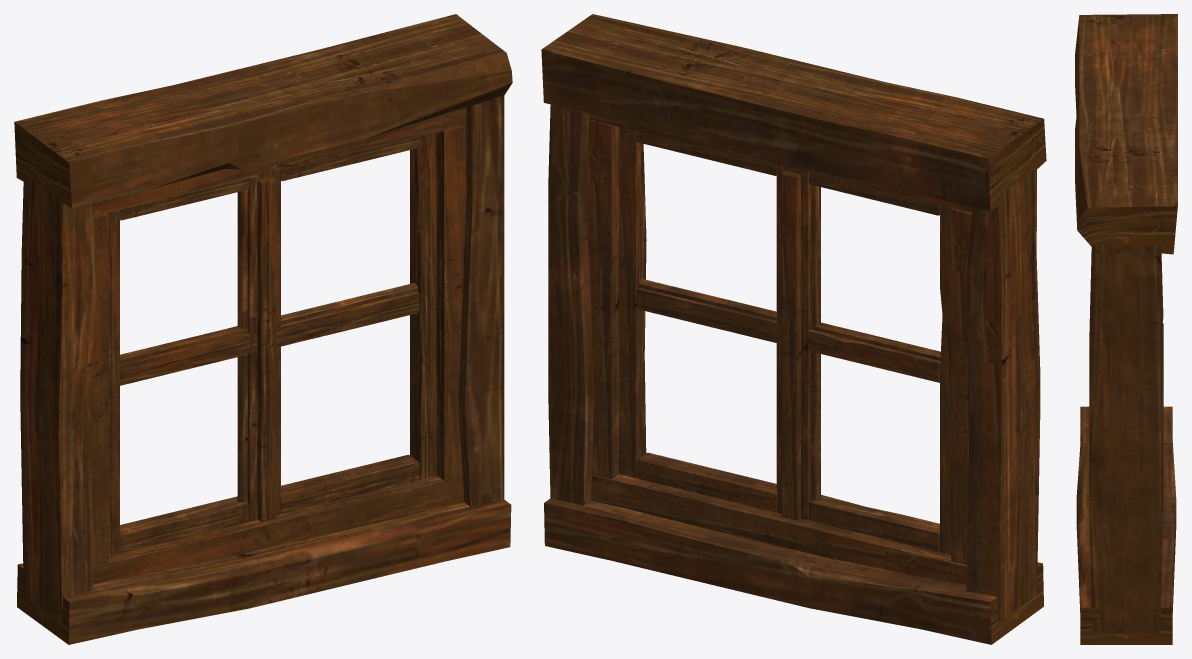
The picture shows the model from 3 angles, left to right: view 1: azimuth 30°, elevation 25°; view 2: azimuth 150°, elevation 25°; view 3: azimuth 270°, elevation 25°; orthographic projection. The views are drawn at different scales.
Visible parts, largest first — view 1: SM_BB_T2_Window_LOD0; view 2: SM_BB_T2_Window_LOD0; view 3: SM_BB_T2_Window_LOD0.
Part boxes in pixels (x1,y1,x2,y2): SM_BB_T2_Window_LOD0: (14,14,512,644); SM_BB_T2_Window_LOD0: (541,14,1046,644); SM_BB_T2_Window_LOD0: (1075,14,1177,644).
Bounding box in the file's own units: 1.27 × 1.33 × 0.2827.
Materials: 1 (1 with a texture image).
